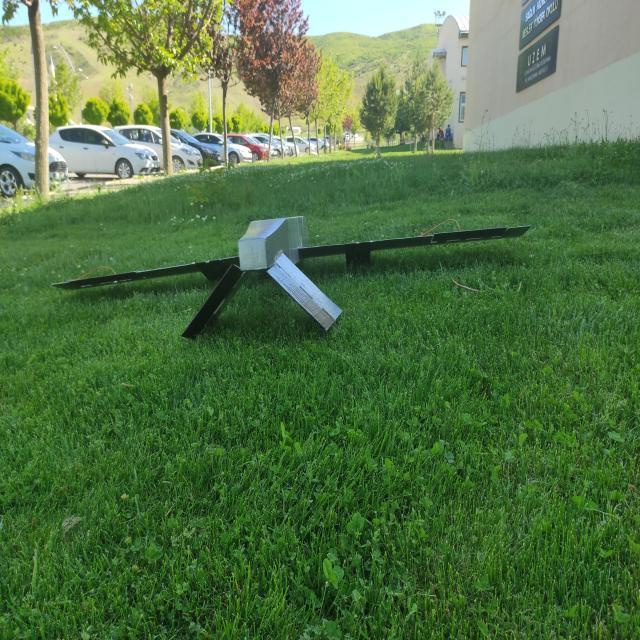UAV: (52, 228, 524, 414)
